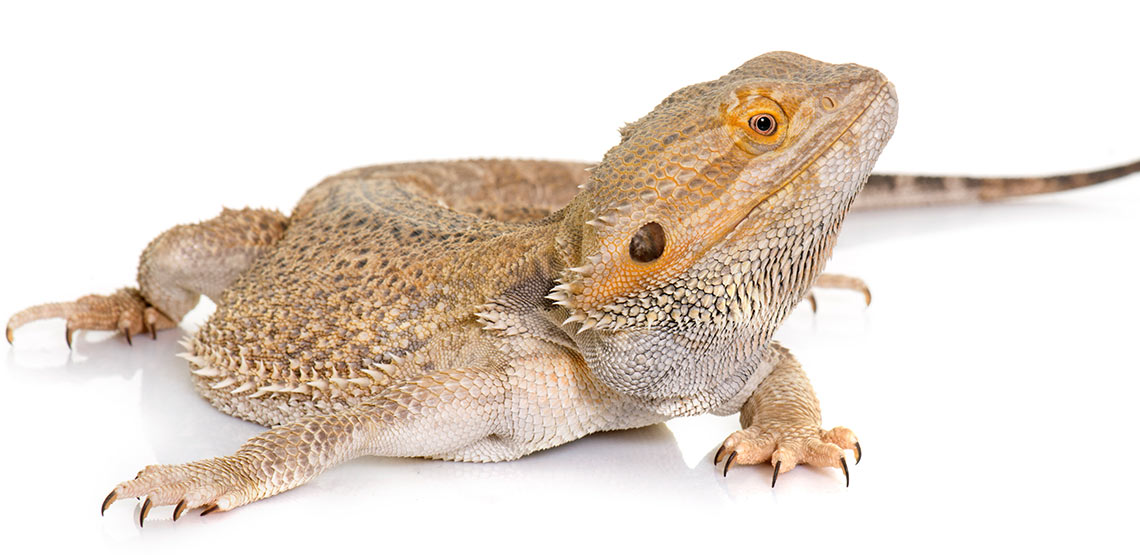bearded: (3, 42, 1140, 533)
